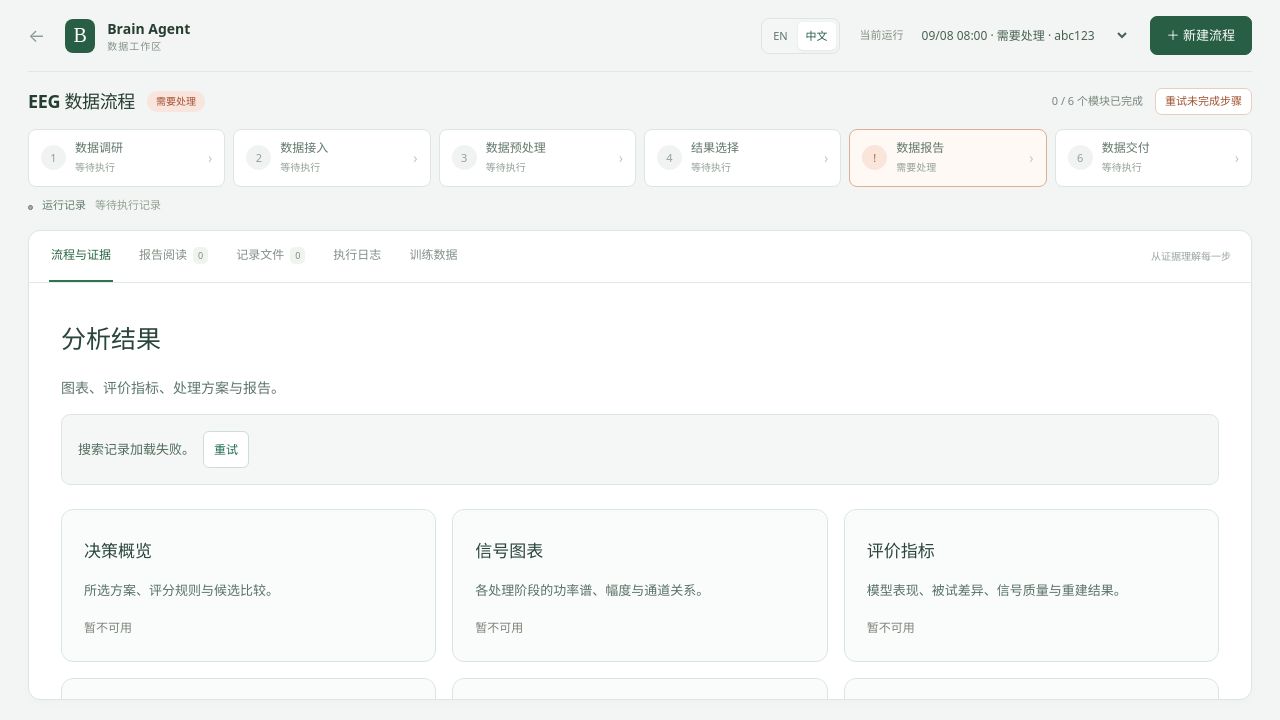
it: WorkflowsView › opens long errors in a stage dialog without expanding the progress layout
Click the button "! 数据报告 需要处理 ›" at point(948, 158), box [849,128,1047,187]
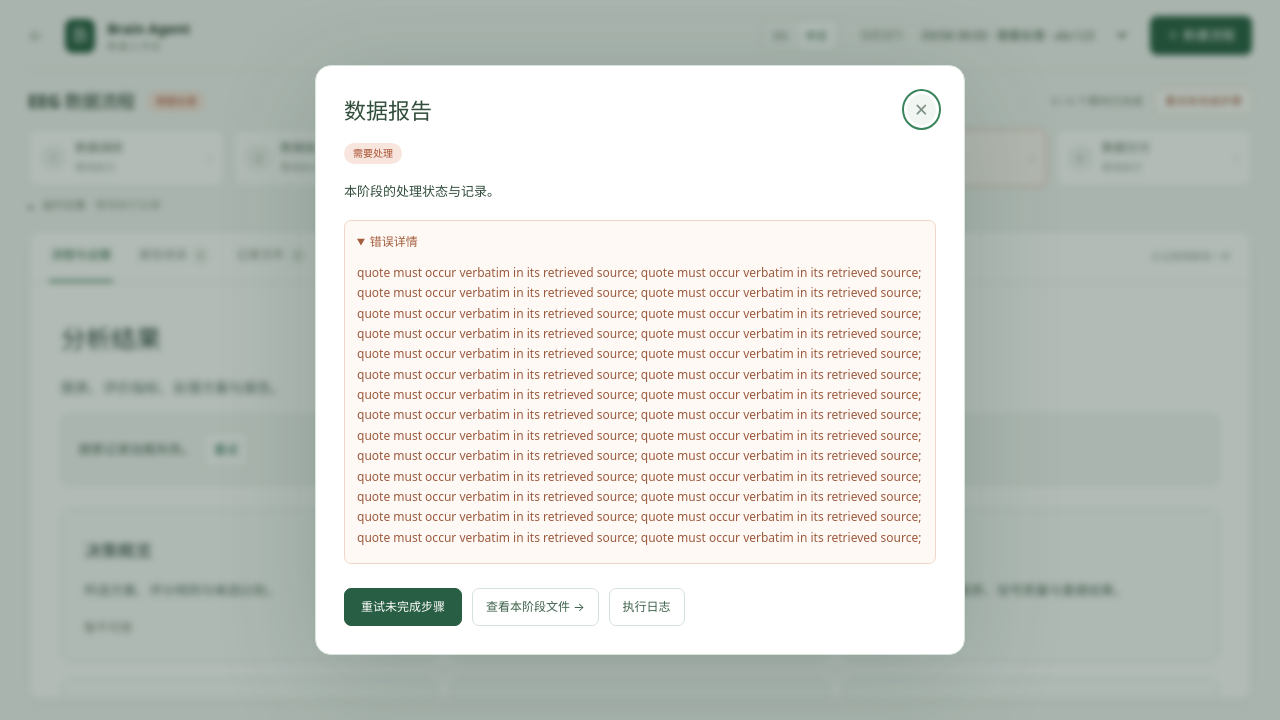
Check: the element with class "stages" does not show "quote must occur"
Check: the heading "数据报告" is shown, box [344,94,432,127]
